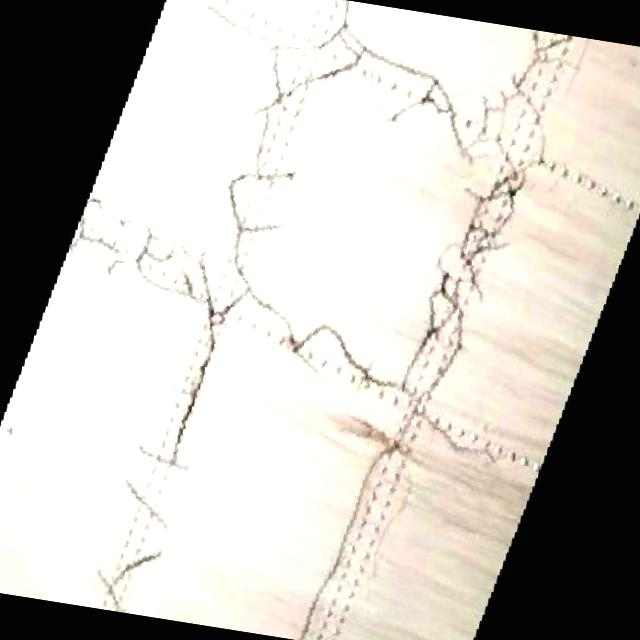crack: (298, 10, 576, 640), (88, 0, 363, 633), (48, 183, 535, 471), (141, 0, 564, 183)
